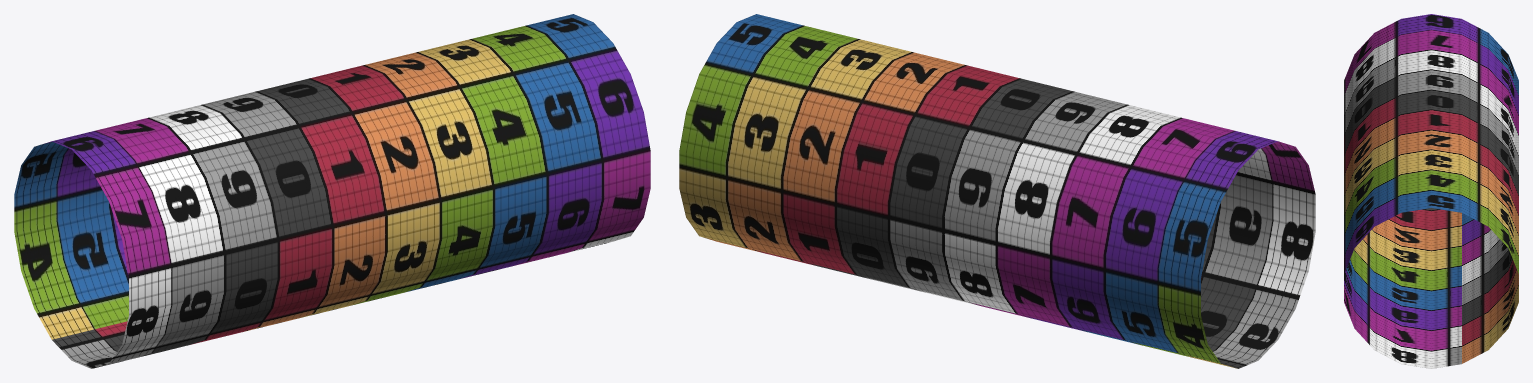
The model's file is Tuyaux1.fbx.
The picture shows the model from 3 angles, left to right: view 1: azimuth 30°, elevation 25°; view 2: azimuth 150°, elevation 25°; view 3: azimuth 270°, elevation 25°; orthographic projection. The views are drawn at different scales.
Parts seen in each view (by area): view 1: Tuyaux1; view 2: Tuyaux1; view 3: Tuyaux1.
Part boxes in pixels (<box>): Tuyaux1: <box>14,14,650,368</box>; Tuyaux1: <box>679,14,1315,368</box>; Tuyaux1: <box>1344,14,1518,368</box>.
Bounding box in the file's own units: 53.19 × 20.58 × 20.26.
Materials: 1 (1 with a texture image).
